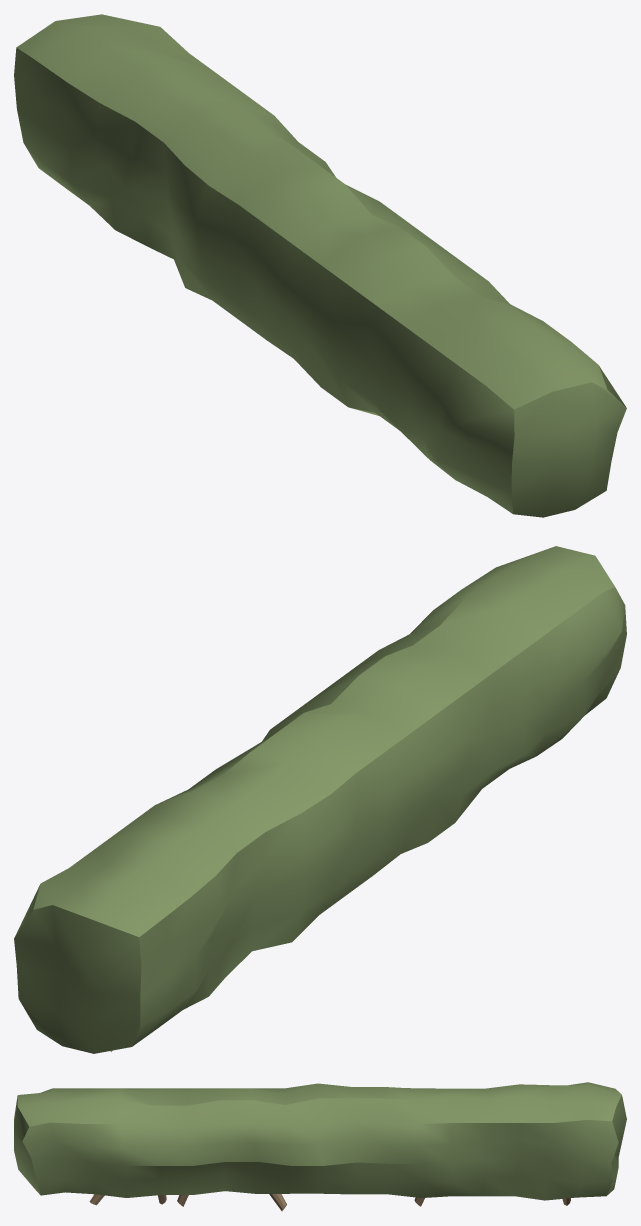
The model's file is hedge03.fbx.
3 views of the same model, one above another, from view 1: azimuth 30°, elevation 25°; view 2: azimuth 150°, elevation 25°; view 3: azimuth 270°, elevation 25° (orthographic). The views are drawn at different scales.
Visible parts, largest first — view 1: hedgeleaves02; view 2: hedgeleaves02; view 3: hedgeleaves02.
Boxes of the visible parts, box(x1,y1,x2,y2) form: hedgeleaves02: box(14, 14, 626, 517); hedgeleaves02: box(14, 546, 626, 1053); hedgeleaves02: box(14, 1082, 626, 1200).
Bounding box in the file's own units: 0.7055 × 0.8215 × 3.97.
